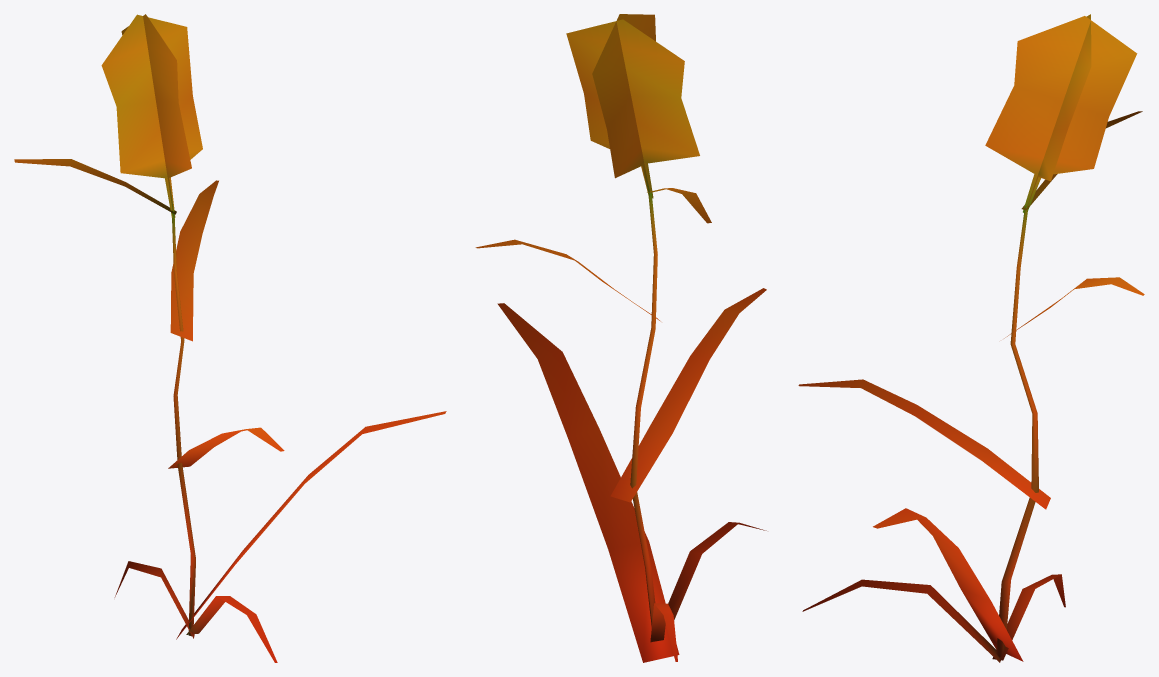
File: SM_OatPlant_9.fbx
3 views of the same model, side by side, from view 1: azimuth 30°, elevation 25°; view 2: azimuth 150°, elevation 25°; view 3: azimuth 270°, elevation 25° (orthographic). The views are drawn at different scales.
Visible parts, largest first — view 1: SM_OatPlant_9; view 2: SM_OatPlant_9; view 3: SM_OatPlant_9.
Part boxes in pixels (left/top/right/bottom): SM_OatPlant_9: left=14, top=14, right=446, bottom=662; SM_OatPlant_9: left=475, top=14, right=766, bottom=662; SM_OatPlant_9: left=798, top=14, right=1144, bottom=662.
Size of the model in its own units: 0.7982 by 1.46 by 0.7163.
